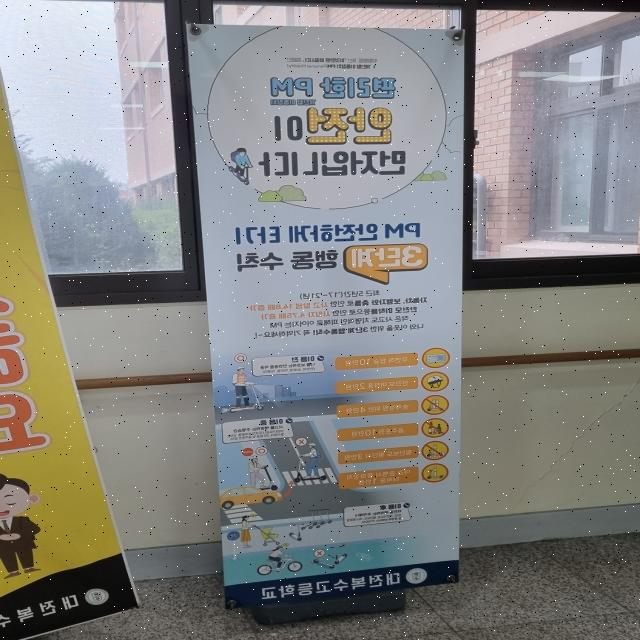logo: (82, 586, 112, 608), (402, 567, 432, 587)
